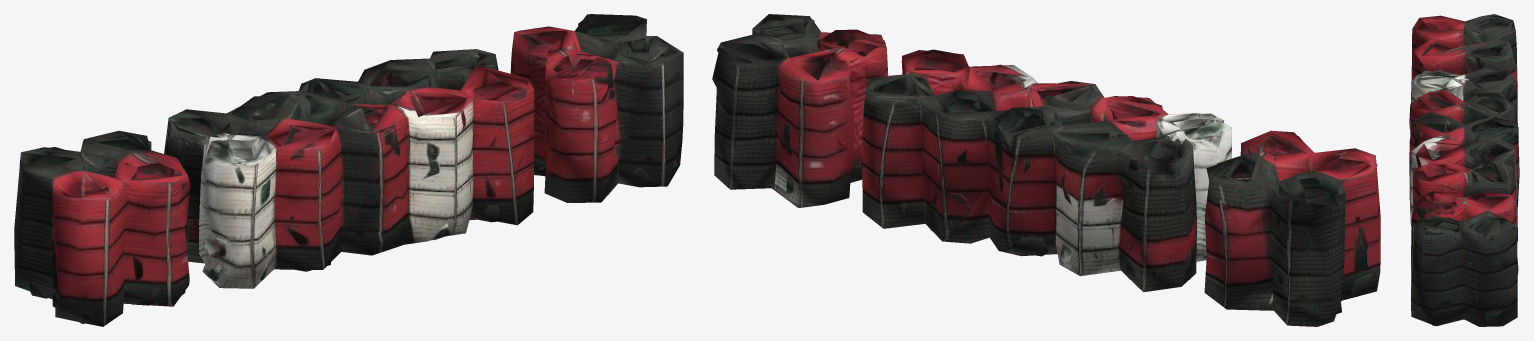
The model's file is tire_wall.glb.
3 renders of one model, left to right at view 1: azimuth 30°, elevation 25°; view 2: azimuth 150°, elevation 25°; view 3: azimuth 270°, elevation 25°, orthographic. The views are drawn at different scales.
Parts seen in each view (by area): view 1: Mesh_0; view 2: Mesh_0; view 3: Mesh_0.
Boxes of the visible parts, box(x1,y1,x2,y2) form: Mesh_0: box(14, 14, 683, 326); Mesh_0: box(712, 14, 1380, 326); Mesh_0: box(1409, 14, 1519, 326).
Size of the model in its own units: 1.9 by 0.3874 by 0.3963.
1 material, 1 textured.
